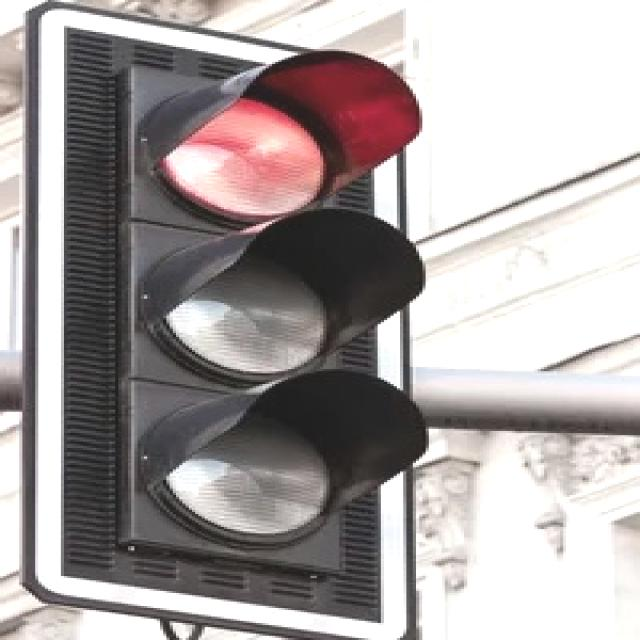kirmizi: (131, 53, 430, 576)
